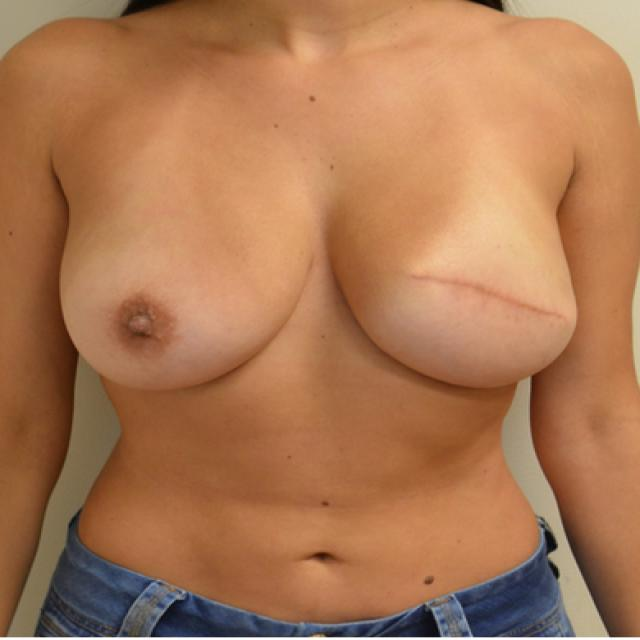Seno herido: (324, 148, 586, 412)
Seno ileso: (51, 148, 320, 412)
